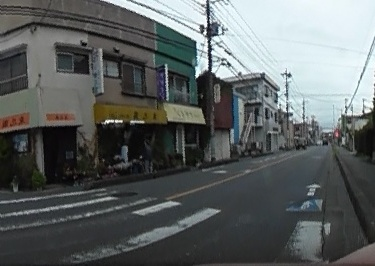person: (141, 139, 154, 169)
